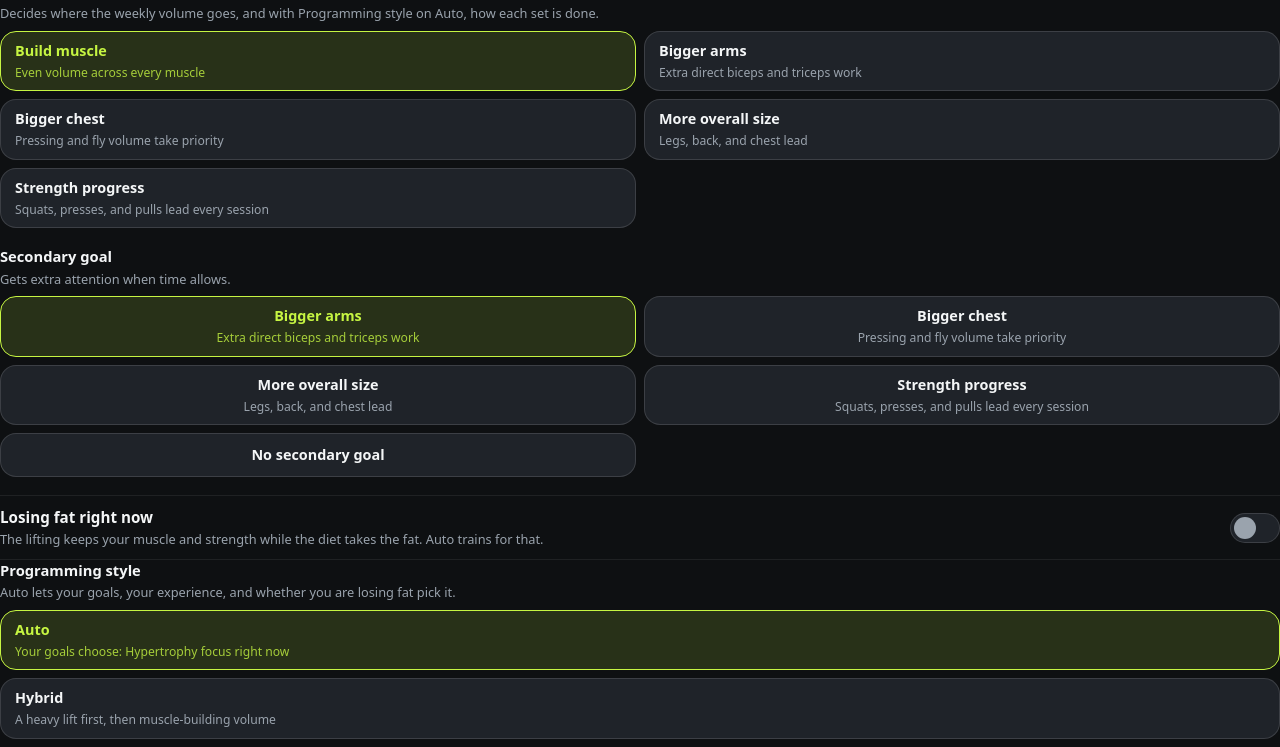
Scenario: the Programming style control › follows the goals as they change, and Losing fat most of all
What coordinates should you click on to do the following:
click the radio button labelled "Strength progress" below "Primary goal"
I would click on:
 (80, 187)
Its box is [0,168,636,228].
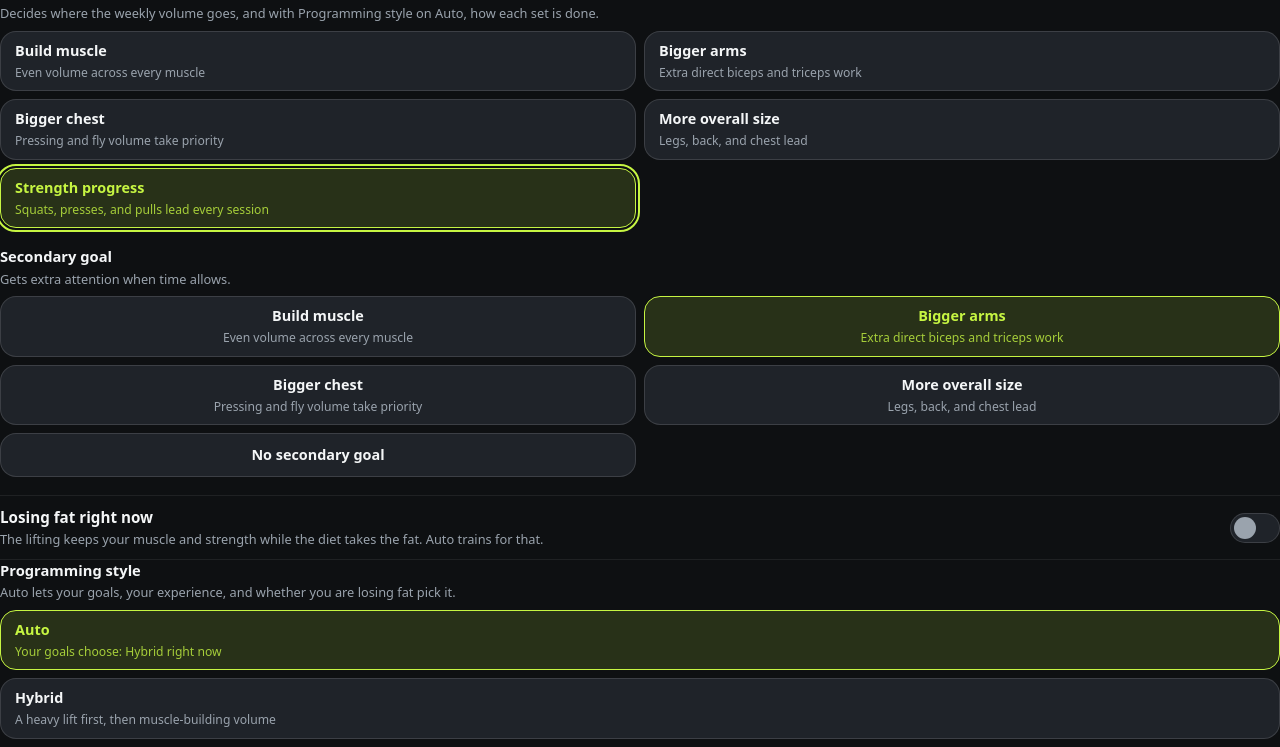
What coordinates should you click on to do the following:
click the switch labelled "Losing fat right now"
I would click on:
 (77, 517)
Its box is [0,496,1279,560].
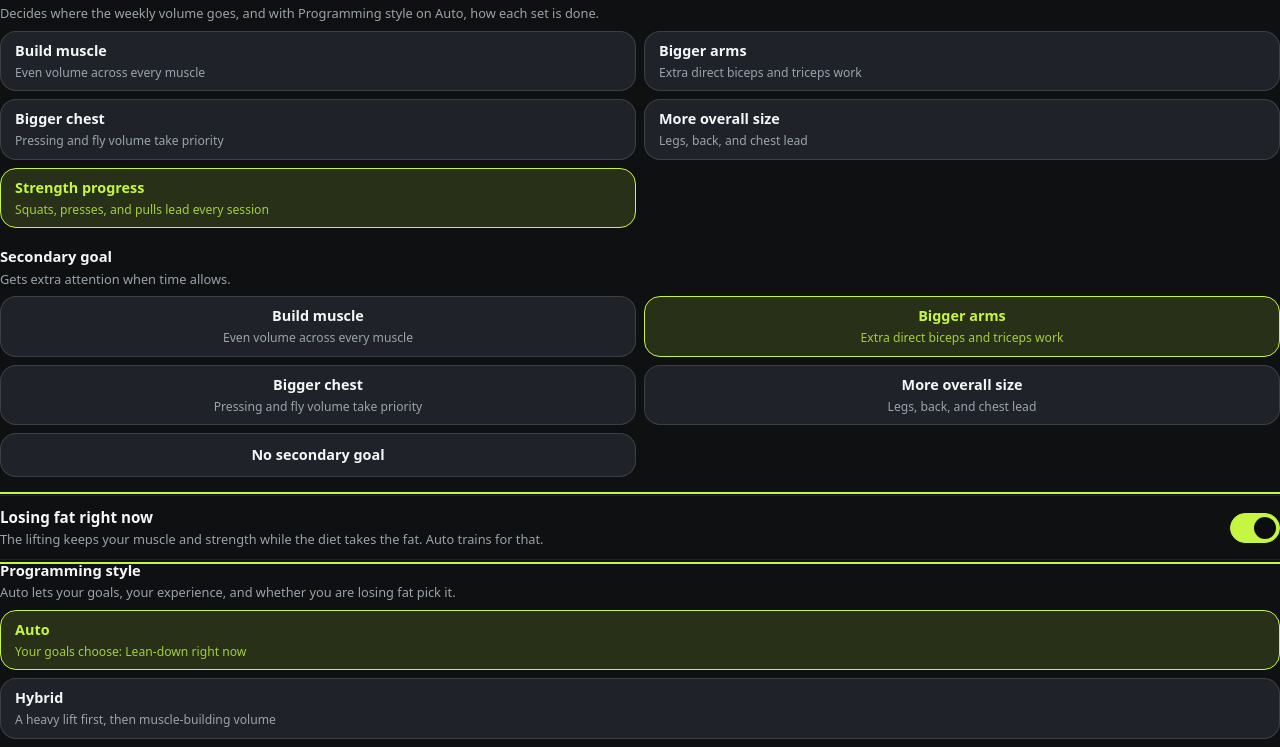
What coordinates should you click on to do the following:
click the switch labelled "Losing fat right now"
I would click on:
 (77, 517)
Its box is [0,496,1279,560].
(page scrolled)
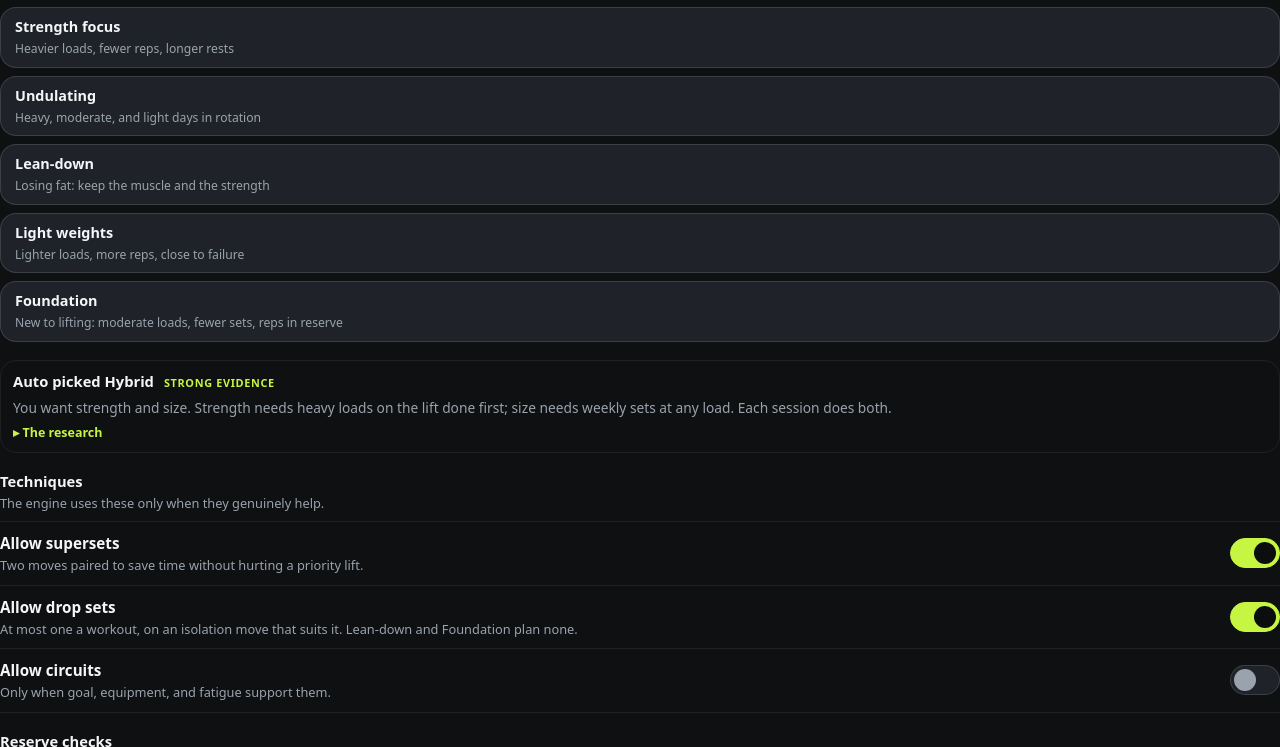
Check: the text with test id "style-resolved" reads "Auto picked Hybrid", box [13,371,154,391]
